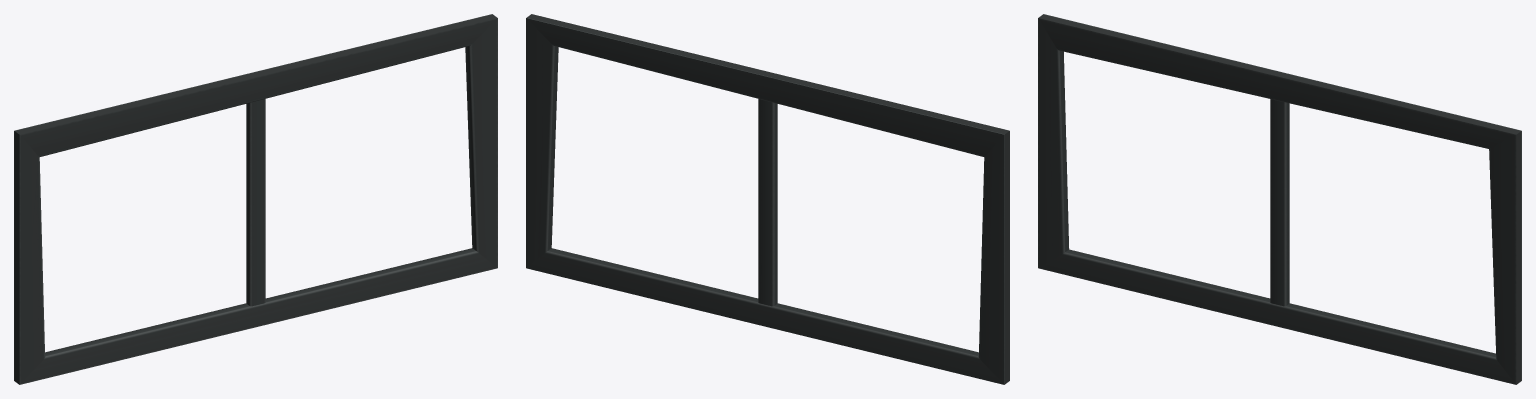
Rendered from PropWindow02TypeI_2.FBX.
The picture shows the model from 3 angles, left to right: view 1: azimuth 30°, elevation 25°; view 2: azimuth 150°, elevation 25°; view 3: azimuth 330°, elevation 25°; orthographic projection.
Parts seen in each view (by area): view 1: PropWindow02TypeI_2; view 2: PropWindow02TypeI_2; view 3: PropWindow02TypeI_2.
Part boxes in pixels (left/top/right/bottom): PropWindow02TypeI_2: left=14, top=14, right=497, bottom=384; PropWindow02TypeI_2: left=526, top=14, right=1009, bottom=384; PropWindow02TypeI_2: left=1038, top=14, right=1521, bottom=384.
Size of what is drawn, in the model's own units: 3 by 1.5 by 0.06.
